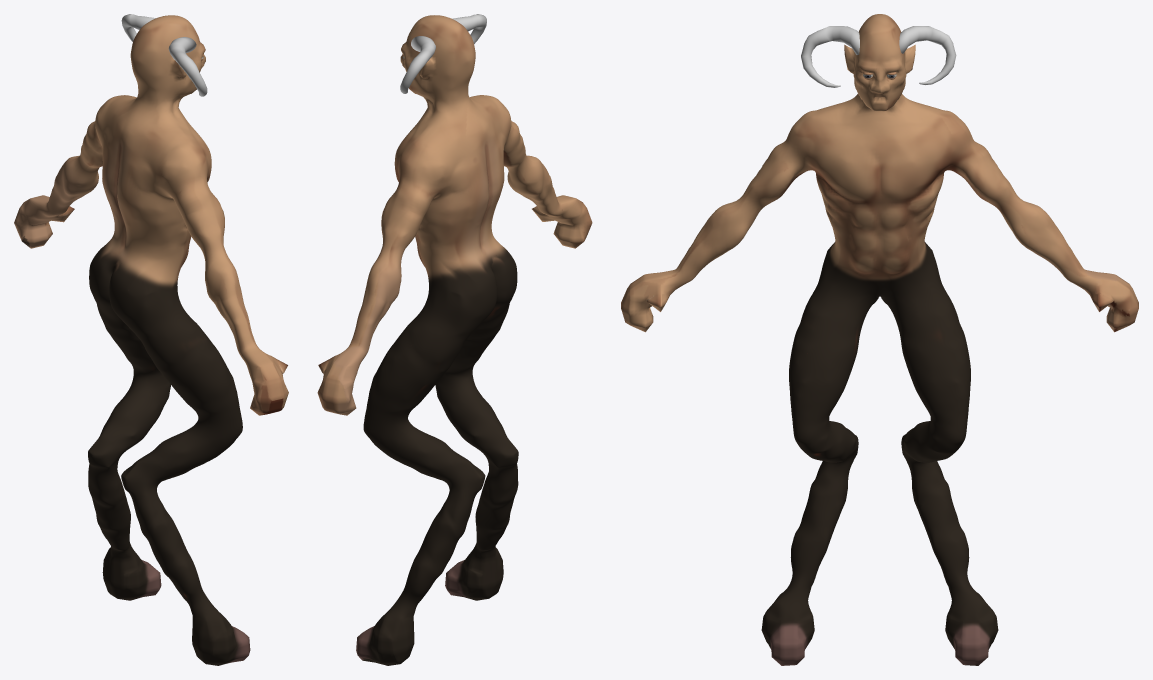
Rendered from SatyrVersion1.fbx.
3 views of the same model, side by side, from view 1: azimuth 30°, elevation 25°; view 2: azimuth 150°, elevation 25°; view 3: azimuth 270°, elevation 25° (orthographic). The views are drawn at different scales.
Parts seen in each view (by area): view 1: Mball.023, Cylinder.001; view 2: Mball.023, Cylinder.001; view 3: Mball.023, Cylinder.001.
Boxes of the visible parts, left/top/right/bottom form: Mball.023: left=14, top=15, right=288, bottom=665; Cylinder.001: left=121, top=14, right=207, bottom=96; Mball.023: left=317, top=15, right=592, bottom=665; Cylinder.001: left=400, top=14, right=486, bottom=93; Mball.023: left=621, top=14, right=1138, bottom=665; Cylinder.001: left=801, top=26, right=956, bottom=87.
Bounding box in the file's own units: 319 × 1845 × 1369.
